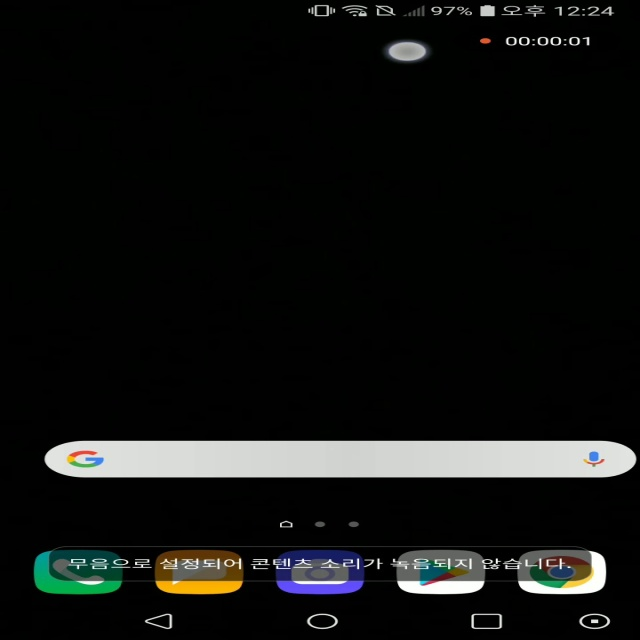Cursor: (384, 40, 429, 63)
